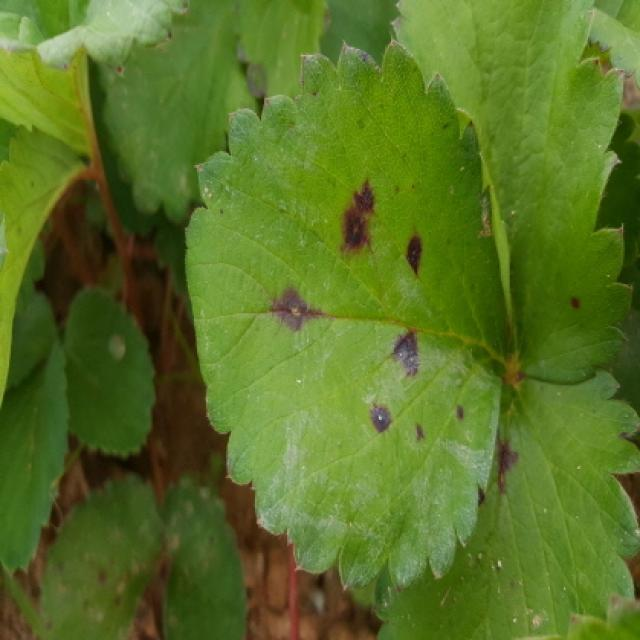Leaf Spot: (182, 38, 515, 593), (388, 0, 634, 386), (359, 369, 638, 638), (32, 472, 166, 638)
